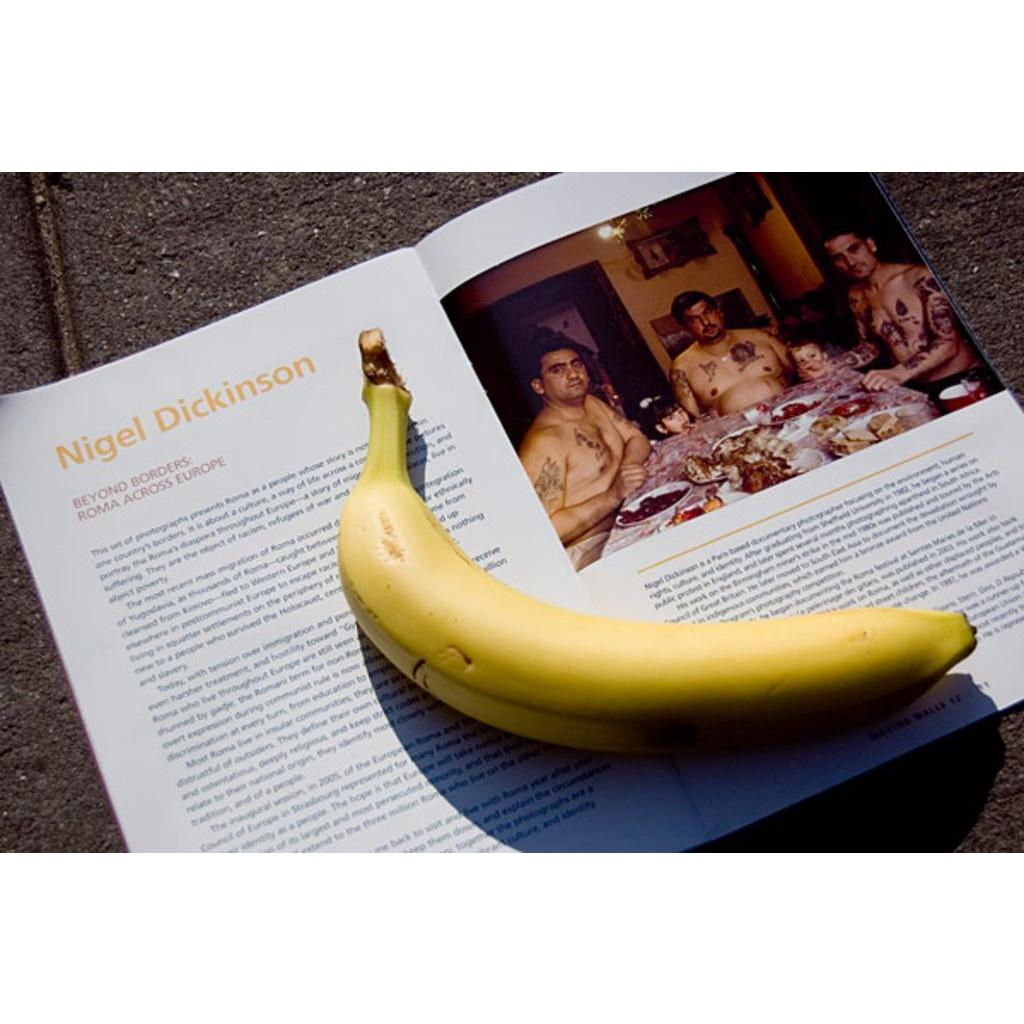banana: (336, 329, 979, 759)
